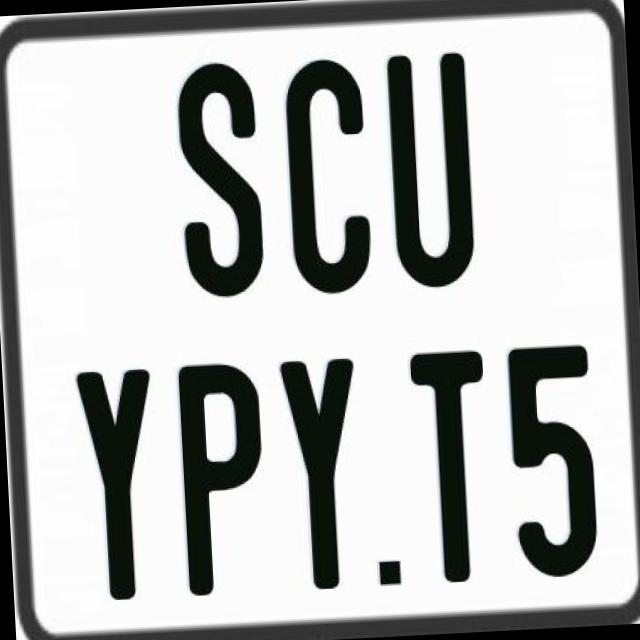5: (503, 344, 602, 586)
C: (280, 54, 378, 298)
P: (174, 360, 272, 598)
S: (175, 57, 274, 295)
T: (408, 344, 498, 588)
U: (387, 50, 482, 292)
Y: (276, 358, 366, 599), (74, 367, 164, 605)
